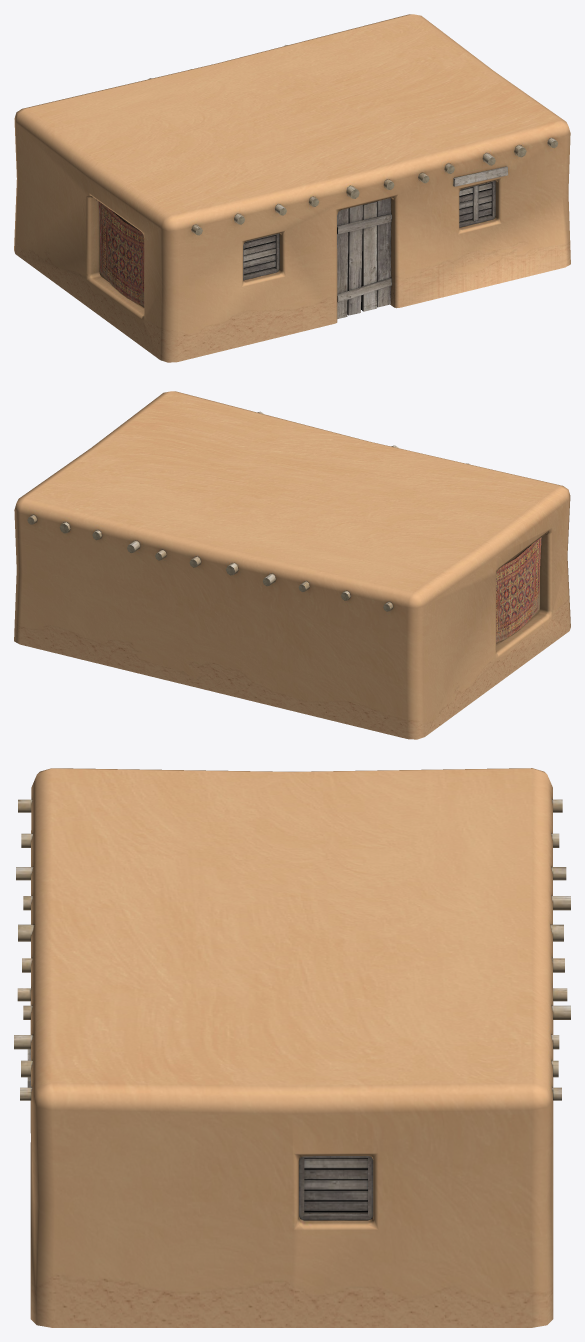
3 views of the same model, one above another, from view 1: azimuth 30°, elevation 25°; view 2: azimuth 150°, elevation 25°; view 3: azimuth 270°, elevation 25° (orthographic). The views are drawn at different scales.
Visible parts, largest first — view 1: Building_2.001; view 2: Building_2.001; view 3: Building_2.001.
Part boxes in pixels (x1=…): Building_2.001: x1=14, y1=14, x2=570, y2=362; Building_2.001: x1=14, y1=391, x2=570, y2=739; Building_2.001: x1=14, y1=768, x2=570, y2=1327.
Size of the model in its own units: 300 by 100 by 213.
